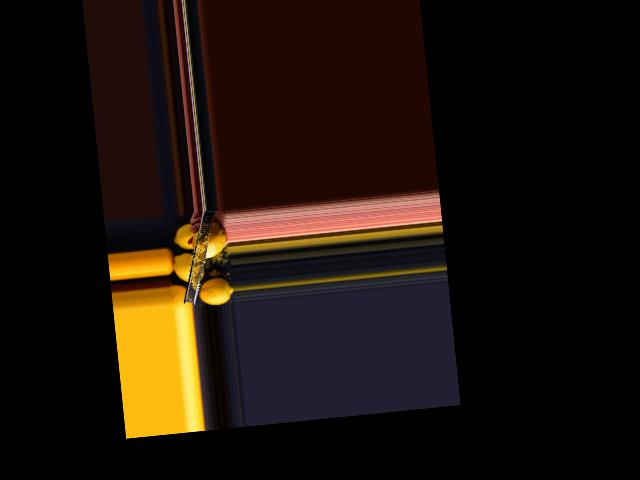lemon: (198, 271, 233, 306)
